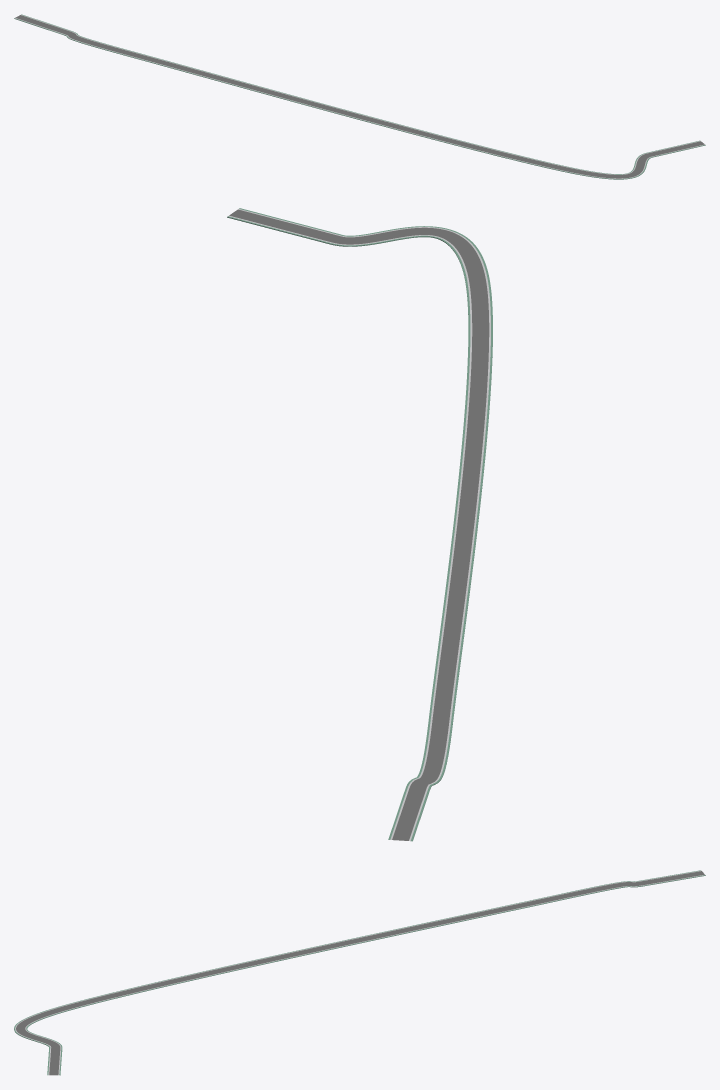
File: road_roam_to_harbour_lights.glb
The picture shows the model from 3 angles, top to bottom: view 1: azimuth 30°, elevation 25°; view 2: azimuth 150°, elevation 25°; view 3: azimuth 270°, elevation 25°; orthographic projection. The views are drawn at different scales.
Parts seen in each view (by area): view 1: road; view 2: road; view 3: road.
Part boxes in pixels (box(x1,y1,x2,y2)): road: box(14, 14, 705, 179); road: box(227, 208, 492, 841); road: box(14, 870, 705, 1075).
Bounding box in the file's own units: 438 × 0.32 × 624.
